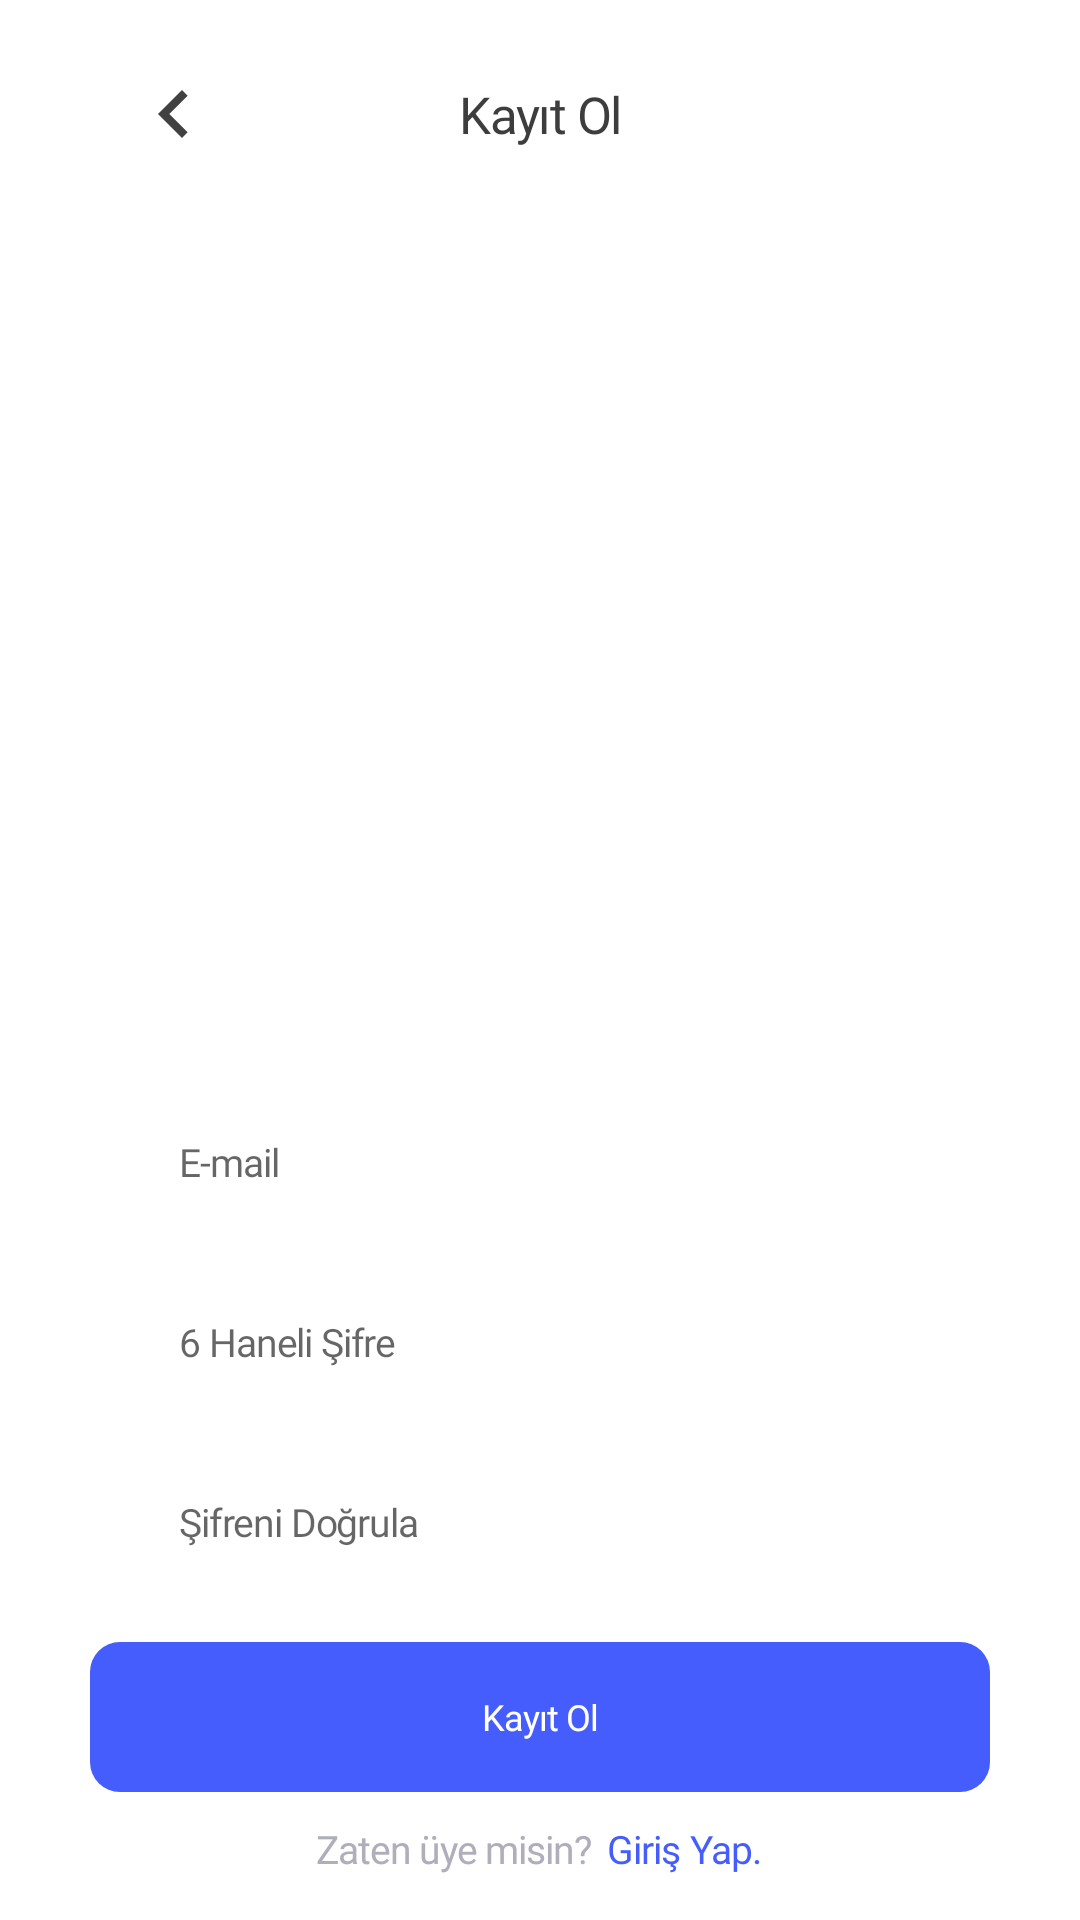

Named icons in this screenshot (1080px x 1920px) and their centers, (x,y):
chevron left: (173,114)
